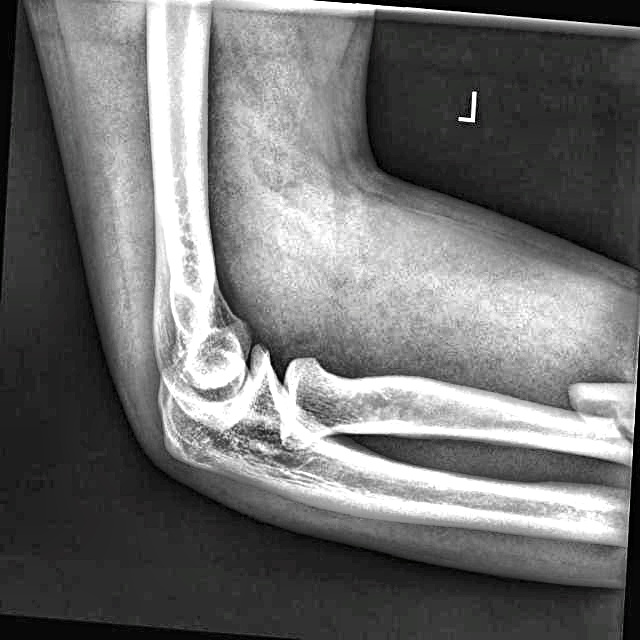Spiral: (564, 364, 635, 464)
